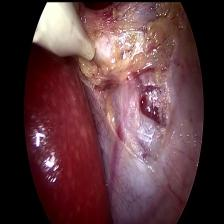Hook: (32, 0, 108, 68)
